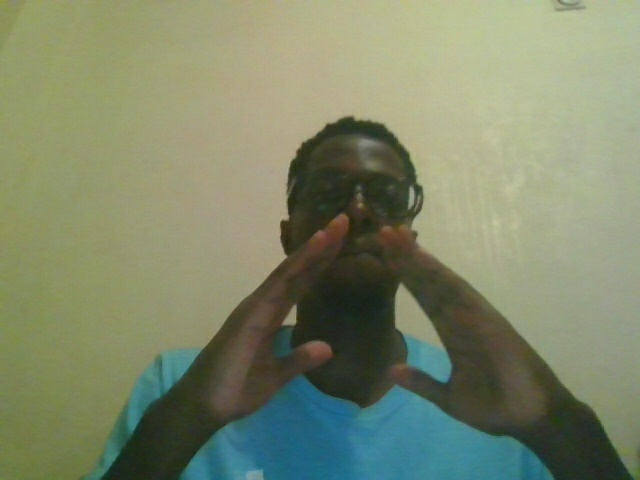Thanks: (158, 212, 632, 473)
